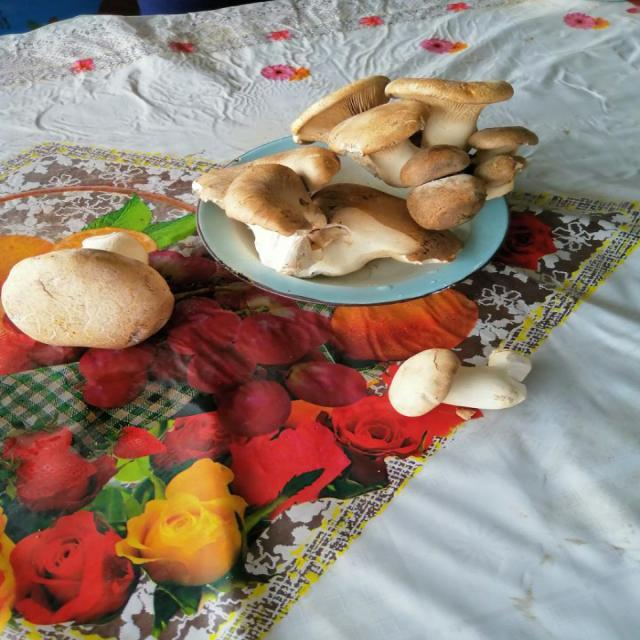Pleurotus cystidiosus: (299, 72, 536, 232), (194, 143, 458, 276), (0, 233, 173, 350), (393, 343, 534, 416)
